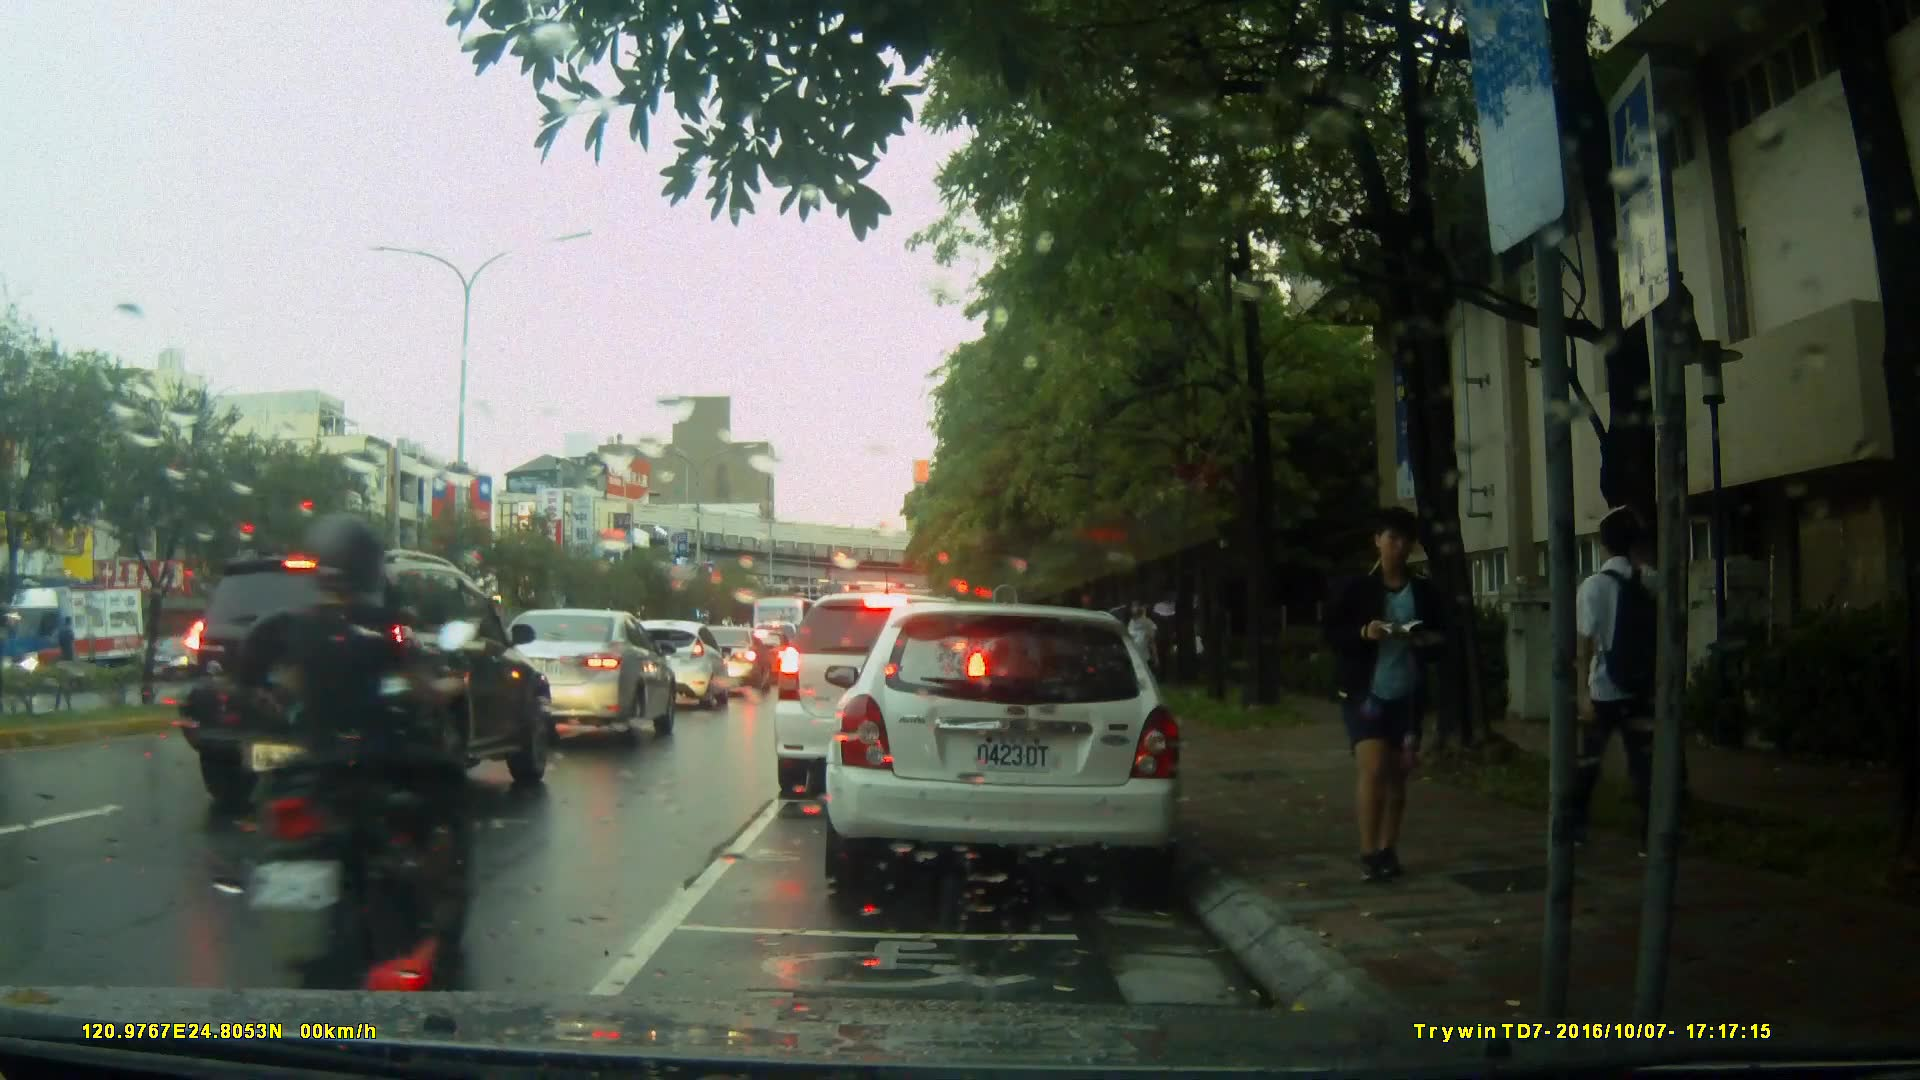pedestrian: (1306, 506, 1463, 891), (1556, 473, 1687, 860), (1119, 588, 1167, 730)
rider: (236, 502, 464, 998)
vehicle: (815, 593, 1200, 897), (171, 548, 552, 823), (770, 590, 995, 802), (486, 608, 685, 748), (1, 584, 150, 686), (609, 618, 733, 712), (690, 625, 765, 689)
